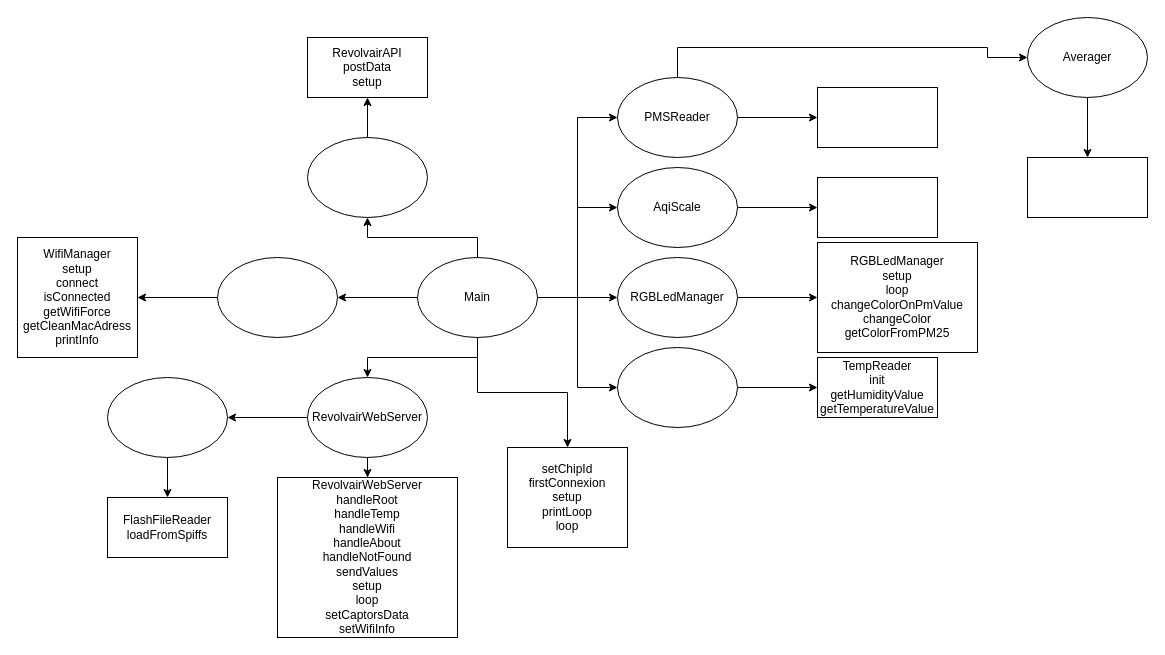
The diagram is 1165 pixels wide and 655 high, and some of its shapes have lost their labels. Each missing label, with the centre of its shape:
AqiScale getPollutionLvl getAqui: the point at 877,207
Averager addValue: the point at 1087,187
FlashFileReader: the point at 167,417
PMSReader getPMSValues: the point at 877,117
RevolvairAPI: the point at 367,177
TempReader: the point at 677,387
WifiManager: the point at 277,297
